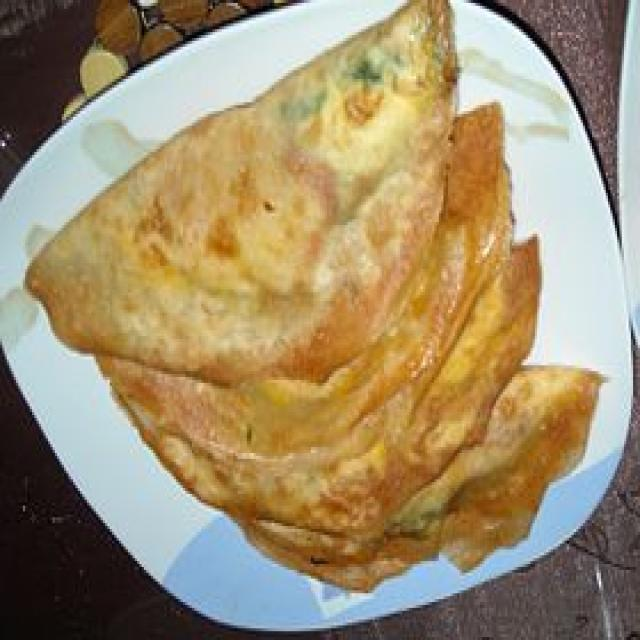brik: (33, 32, 455, 394), (106, 132, 502, 488), (219, 366, 583, 593)
